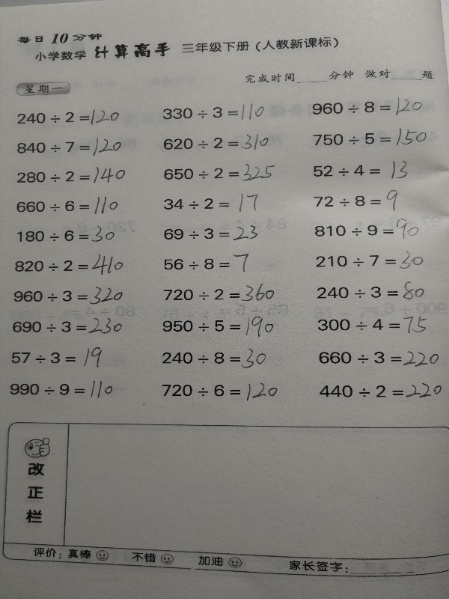equation: (311, 216, 427, 243), (160, 313, 278, 339), (13, 252, 126, 278), (159, 380, 280, 404), (309, 156, 416, 182), (159, 346, 269, 371), (317, 380, 445, 401), (162, 161, 278, 184), (315, 347, 442, 368), (11, 285, 126, 308), (310, 95, 425, 118), (9, 344, 105, 371), (315, 279, 427, 302), (10, 315, 126, 337), (310, 127, 430, 148), (15, 136, 124, 159), (316, 314, 429, 336), (311, 188, 406, 214), (159, 283, 278, 303), (7, 379, 115, 401), (15, 165, 128, 186), (162, 250, 253, 276), (15, 225, 117, 248), (14, 195, 120, 217), (161, 131, 272, 152), (162, 192, 260, 215), (160, 103, 266, 124), (313, 252, 426, 271), (15, 107, 122, 127), (161, 224, 260, 243)
